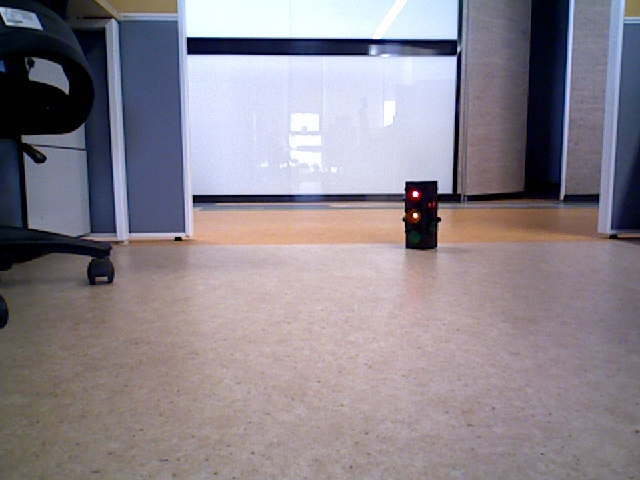red: (406, 185, 436, 246)
